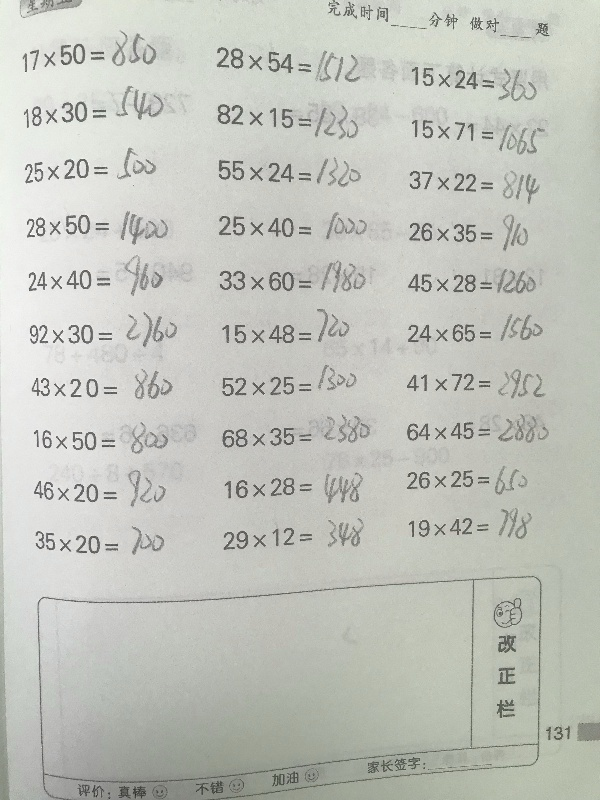equation: (210, 37, 369, 90), (209, 91, 368, 144), (24, 250, 173, 304), (213, 254, 380, 301), (16, 84, 169, 135), (23, 205, 175, 254), (26, 307, 183, 353), (214, 205, 374, 250), (220, 462, 367, 510), (29, 465, 179, 512), (217, 409, 373, 452), (21, 29, 169, 73), (22, 144, 160, 191), (405, 414, 557, 456), (400, 457, 552, 499), (401, 504, 553, 546), (30, 416, 174, 459), (409, 116, 551, 159), (219, 513, 373, 551), (218, 305, 352, 347), (215, 154, 365, 191), (403, 367, 549, 405), (406, 211, 532, 255), (405, 161, 543, 200), (27, 366, 180, 401), (407, 64, 540, 103), (32, 523, 168, 559), (403, 312, 546, 345), (404, 265, 547, 298), (218, 365, 360, 398)
